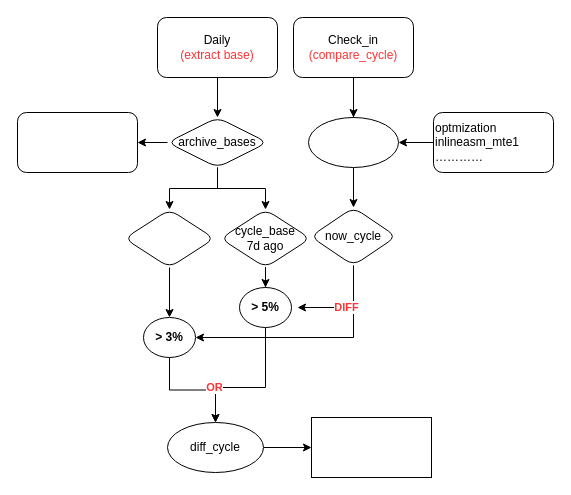
This 571x495 diagram has some shape labels left out. Here are the shapes that lost their labels. From the top down, the box of each, then its label:
(16, 112, 138, 172): cycle_20221018 cycle_20221019 cycle_20221020 …………
(308, 116, 398, 168): CFG
(124, 208, 214, 268): cycle_base 1d ago
(310, 416, 432, 478): comment to gerrit
